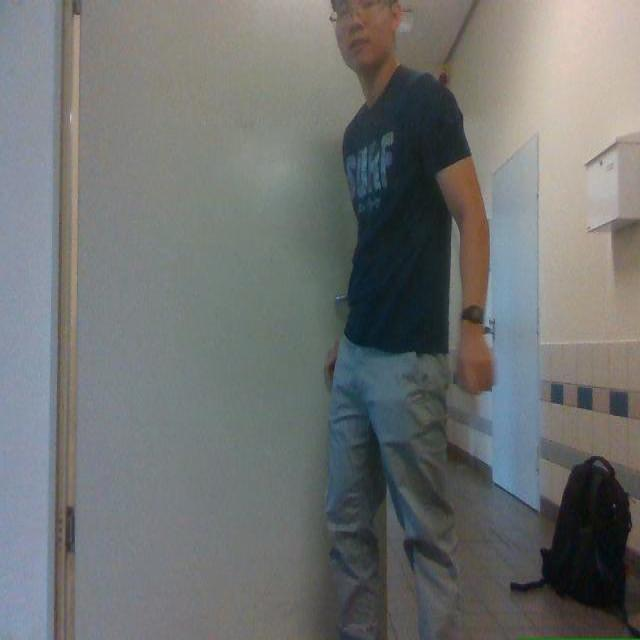humans: (325, 0, 492, 639)
objects: (511, 456, 639, 637)
